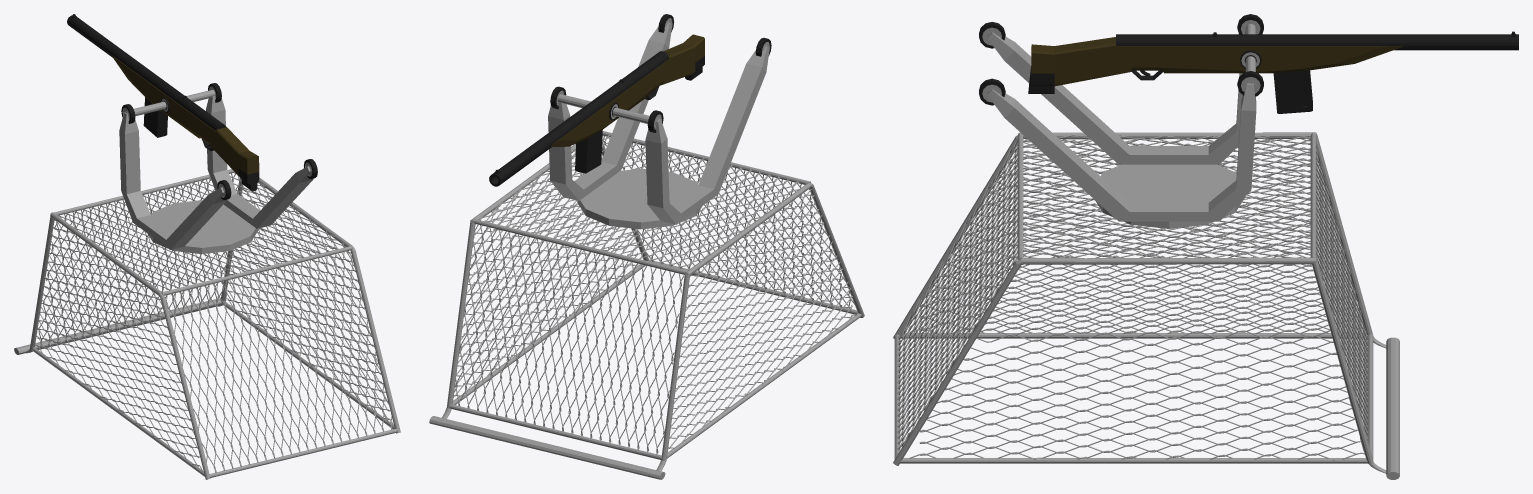
Rendered from trash_turret.fbx.
The picture shows the model from 3 angles, left to right: view 1: azimuth 30°, elevation 25°; view 2: azimuth 150°, elevation 25°; view 3: azimuth 270°, elevation 25°; orthographic projection. The views are drawn at different scales.
Parts seen in each view (by area): view 1: telega, Legs, gun; view 2: telega, Legs, gun; view 3: telega, Legs, gun.
Part boxes in pixels (x1,y1,x2,y2): telega: (14, 169, 400, 479); Legs: (119, 83, 317, 253); gun: (67, 14, 259, 191); telega: (429, 131, 864, 479); Legs: (548, 14, 771, 229); gun: (489, 34, 704, 186); telega: (893, 132, 1399, 479); Legs: (979, 14, 1263, 228); gun: (1028, 31, 1518, 113).
Size of the model in its own units: 138 by 270 by 182.
